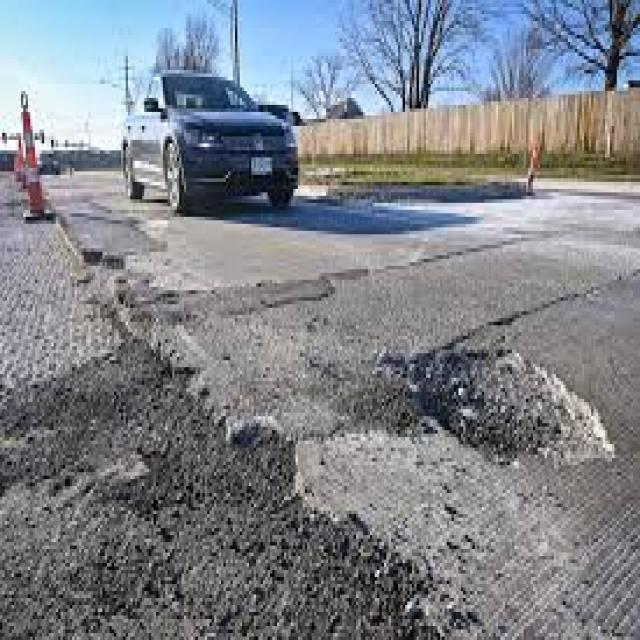Pothole: (375, 325, 614, 465)
